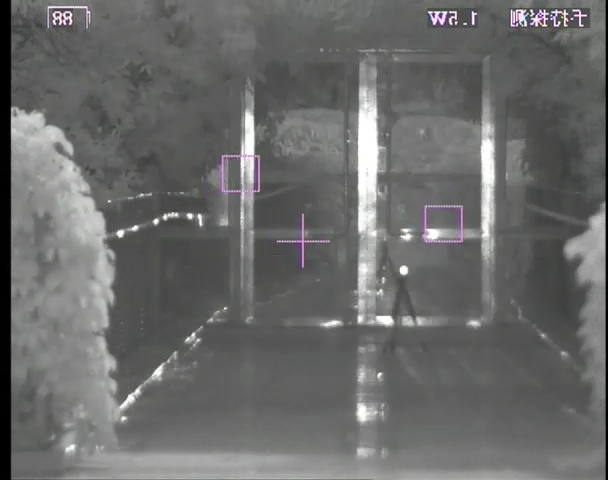my: (398, 264, 410, 276)
